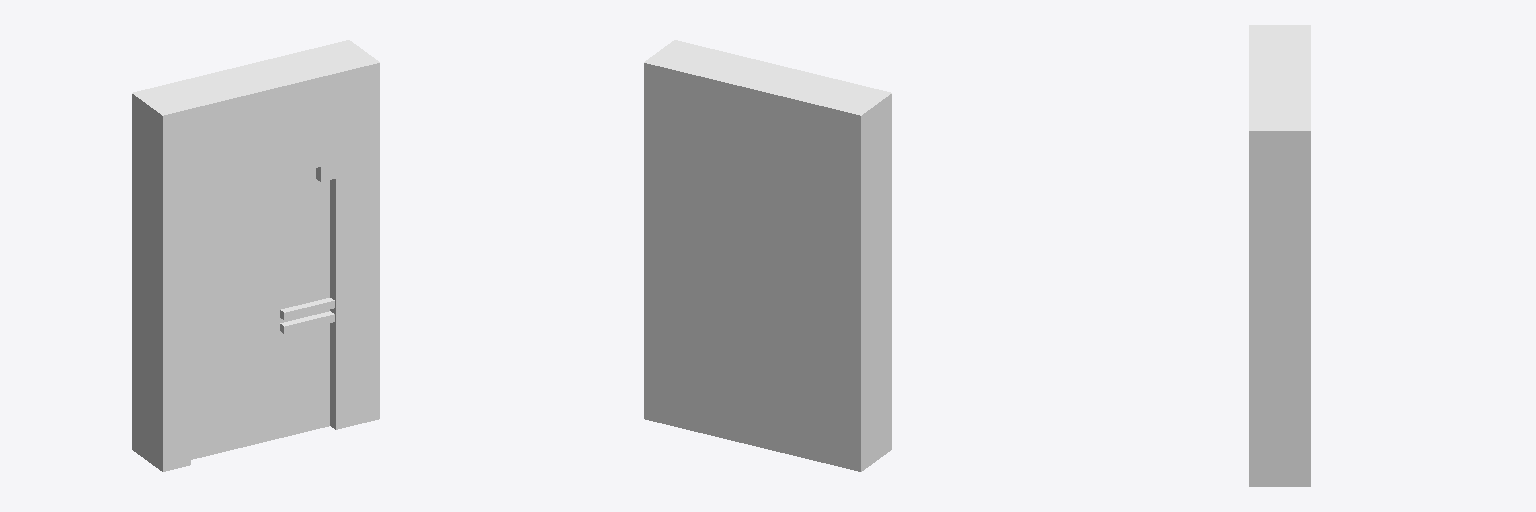
File: Dungeon_Tür.obj
The picture shows the model from 3 angles: view 1: azimuth 30°, elevation 25°; view 2: azimuth 150°, elevation 25°; view 3: azimuth 270°, elevation 25°; orthographic projection.
Parts seen in each view (by area): view 1: object 1; view 2: object 1; view 3: object 1.
Part boxes in pixels (bbox=[...]): object 1: bbox=[132, 40, 379, 471]; object 1: bbox=[644, 40, 891, 471]; object 1: bbox=[1249, 25, 1310, 486].
Bounding box in the file's own units: 11.7 × 18.3 × 2.9.